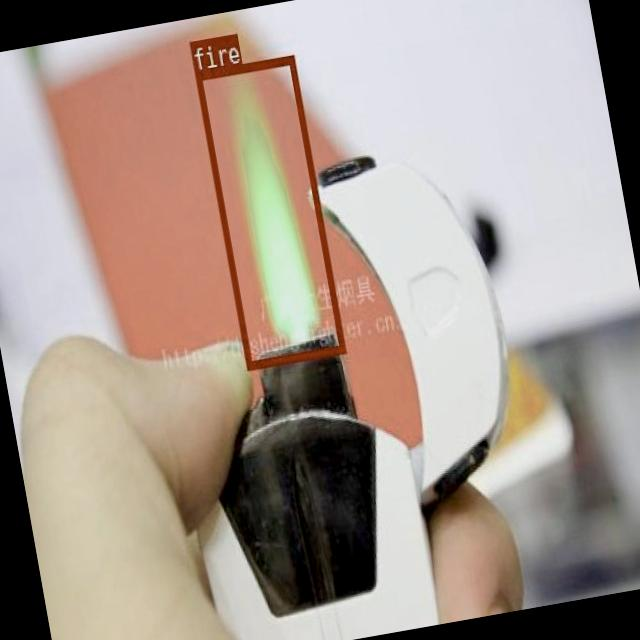fire: (194, 54, 345, 369)
